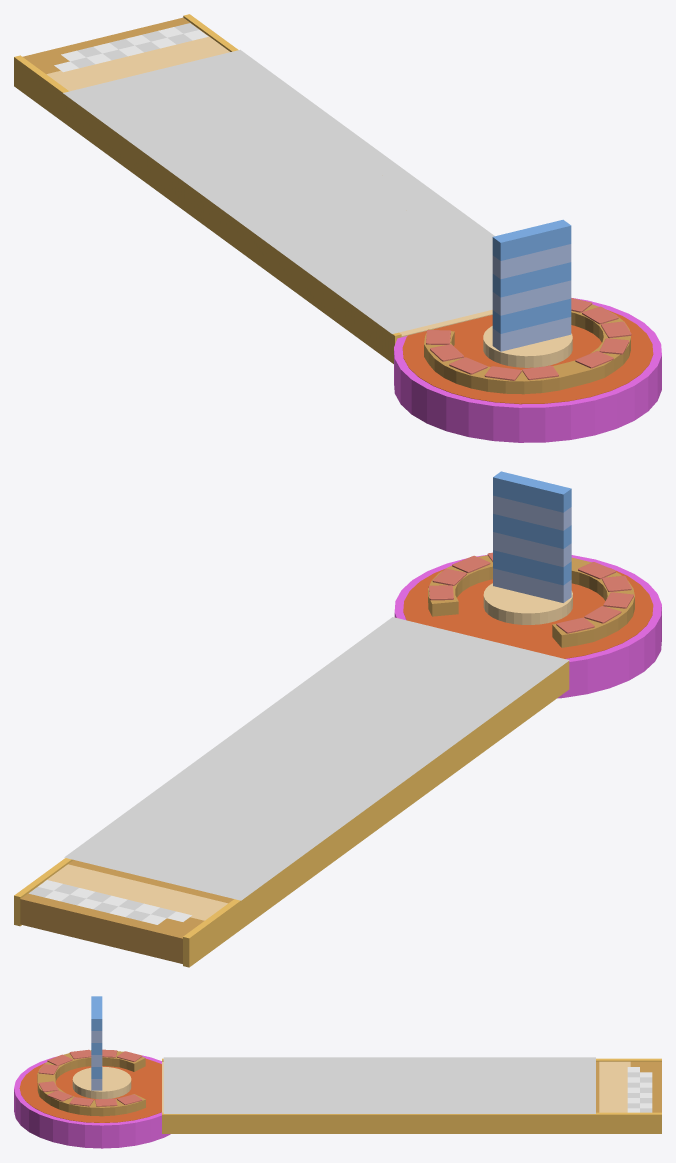
The picture shows the model from 3 angles, top to bottom: view 1: azimuth 30°, elevation 25°; view 2: azimuth 150°, elevation 25°; view 3: azimuth 270°, elevation 25°; orthographic projection. The views are drawn at different scales.
Visible parts, largest first — view 1: Cylinder.027, Plane.026, Plane.027, Plane.025, Plane.024, Plane.022, Plane.023, Cylinder.028, Plane.021, Cube.016, Cube.030, Cube.024 (+9 smaller); view 2: Cube.024, Cylinder.028, Plane.023, Plane.024, Plane.027, Plane.026, Plane.022, Plane.021, Plane.020, Plane.025, Cube.016, Cube.030 (+9 smaller); view 3: Cube.015, Cube.031, Cylinder.027, Cylinder.028, Plane.027, Plane.026, Plane.023, Plane.022, Plane.021, Plane.020, Plane.025, Plane.024 (+5 smaller).
Part boxes in pixels (<box>): Cylinder.027: <box>394,298,661,442</box>; Plane.026: <box>145,110,363,183</box>; Plane.027: <box>186,140,404,213</box>; Plane.025: <box>104,80,322,153</box>; Plane.024: <box>63,49,281,122</box>; Plane.022: <box>269,200,486,273</box>; Plane.023: <box>228,170,445,243</box>; Cylinder.028: <box>402,309,653,404</box>; Plane.021: <box>310,230,494,303</box>; Cube.016: <box>14,55,204,224</box>; Cube.030: <box>204,197,401,363</box>; Cube.024: <box>22,17,229,91</box>; Cube.024: <box>20,860,233,963</box>; Cylinder.028: <box>403,568,653,658</box>; Plane.023: <box>228,707,446,780</box>; Plane.024: <box>64,827,281,900</box>; Plane.027: <box>187,737,405,810</box>; Plane.026: <box>146,767,363,840</box>; Plane.022: <box>269,677,487,750</box>; Plane.021: <box>311,647,528,720</box>; Plane.020: <box>352,617,569,690</box>; Plane.025: <box>105,797,322,870</box>; Cube.016: <box>183,800,379,967</box>; Cube.030: <box>379,661,569,827</box>; Cube.015: <box>412,1112,661,1133</box>; Cube.031: <box>162,1112,411,1133</box>; Cylinder.027: <box>14,1055,170,1148</box>; Cylinder.028: <box>19,1059,161,1122</box>; Plane.027: <box>379,1057,433,1113</box>; Plane.026: <box>433,1057,487,1113</box>; Plane.023: <box>325,1057,379,1113</box>; Plane.022: <box>271,1057,325,1113</box>; Plane.021: <box>217,1057,271,1113</box>; Plane.020: <box>163,1057,217,1113</box>; Plane.025: <box>488,1057,541,1113</box>; Plane.024: <box>542,1057,595,1113</box>.
Bounding box in the file's own units: 286 × 185 × 1051.
